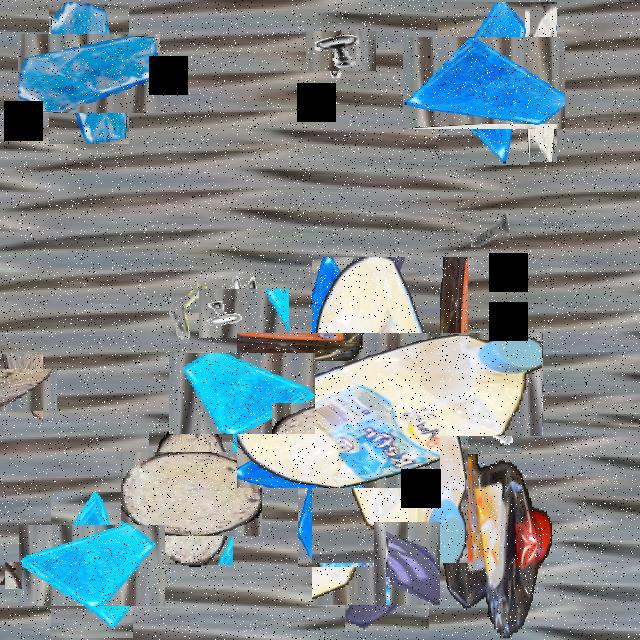glass: (420, 20, 548, 147), (329, 505, 445, 622), (35, 508, 149, 622), (185, 336, 299, 450), (34, 18, 144, 128), (298, 432, 374, 567)
metal: (165, 251, 225, 357), (464, 350, 522, 454), (209, 278, 279, 348), (469, 192, 511, 267), (313, 24, 369, 79)
plastic: (274, 295, 506, 526), (440, 436, 552, 638)
wood: (134, 438, 248, 550), (525, 2, 557, 162), (0, 361, 50, 418), (2, 565, 25, 587)
